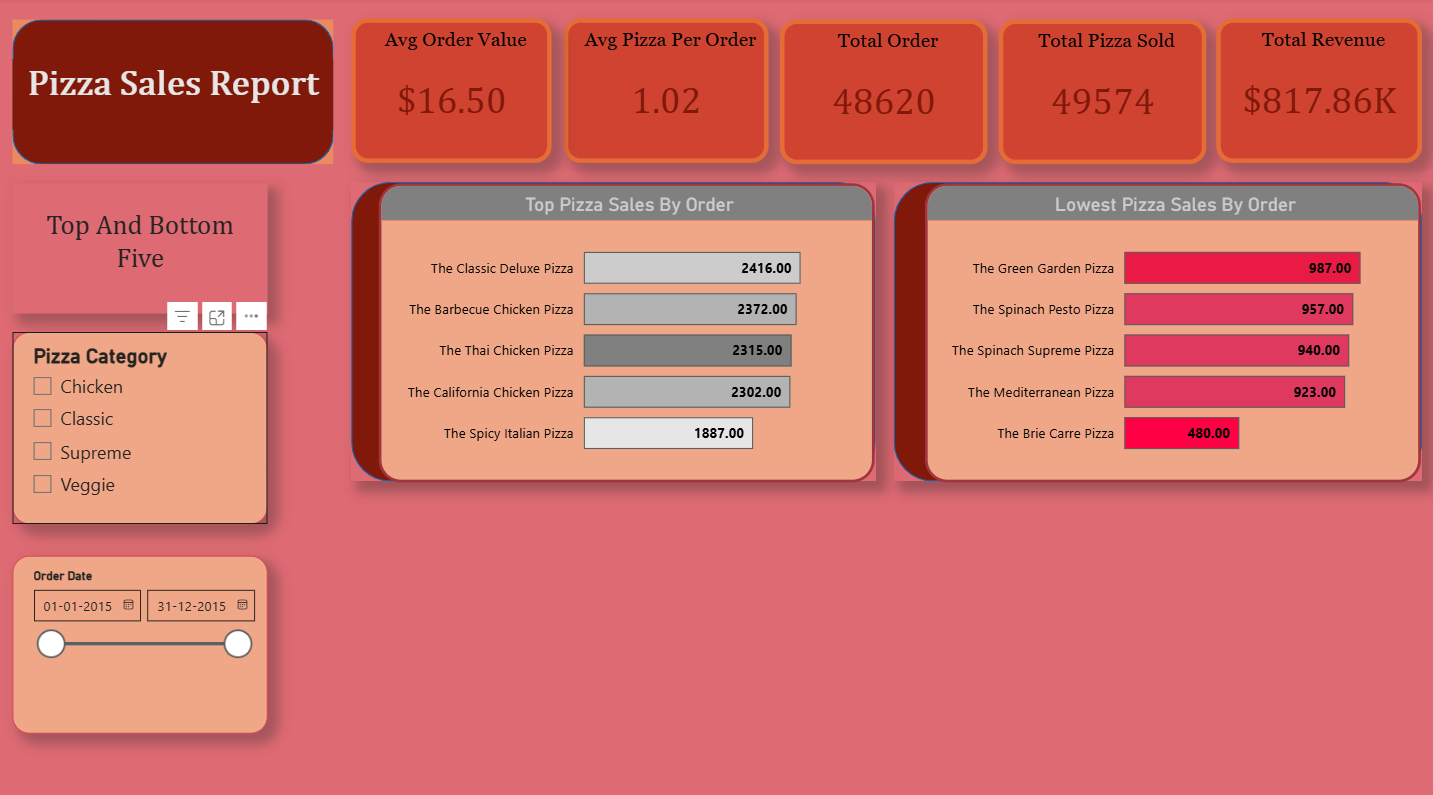

What the dashboard file says about the page in this screenshot:
{"tool":"powerbi","page":{"name":"Page 4","canvas":[1280,720],"ordinal":3},"visuals":[{"type":"card","title":"Avg Pizza Per Order","fields":{"Values":["public pizza_sales.average_pizza per order"]},"box":[501.9,19.3,182.2,129.1],"z":0},{"type":"card","title":"Avg Order Value","fields":{"Values":["public pizza_sales.Average order value"]},"box":[312.5,19.3,178.6,129.1],"z":1},{"type":"card","title":"Total Order","fields":{"Values":["public pizza_sales.Total_order"]},"box":[694.9,20.5,184.6,129.1],"z":2},{"type":"card","title":"Total Pizza Sold","fields":{"Values":["public pizza_sales.Total_pizza_sold"]},"box":[889.1,20.5,184.6,129.1],"z":3},{"type":"card","title":"Total Revenue","fields":{"Values":["public pizza_sales.total_revenue"]},"box":[1083.4,19.3,183.4,129.1],"z":4},{"type":"shape","box":[312.5,165.3,466.9,266.6],"z":5},{"type":"shape","box":[796.3,165.3,470.5,266.6],"z":6},{"type":"barChart","title":"Top Pizza Sales By Order","fields":{"Category":["public pizza_sales.pizza_name"],"Y":["Count(public pizza_sales.order_details_id)"]},"box":[337,165.6,441.7,266.3],"z":7},{"type":"barChart","title":"Lowest Pizza Sales By Order","fields":{"Category":["public pizza_sales.pizza_name"],"Y":["Count(public pizza_sales.order_details_id)"]},"box":[823.8,166.2,441.2,266.2],"z":8},{"type":"shape","title":"Pi","box":[10.9,20.5,285.9,129.1],"z":9},{"type":"textbox","box":[10.9,55.5,285.9,62.7],"z":10},{"type":"textbox","box":[11.2,166.2,227.5,116.2],"z":11},{"type":"slicer","title":"Pizza Category","fields":{"Values":["public pizza_sales.pizza_category"]},"box":[11.2,298.8,227.5,171.2],"z":12},{"type":"slicer","title":"Pizza Category","fields":{"Values":["public pizza_sales.order_date"]},"box":[11.2,497.5,227.5,158.8],"z":13}]}

Visuals, with their boxes in screenshot pixels (x1, y1, x2, y2), scaled from the page's 1280x720 canvas onto the 1433x795 screenshot:
"Avg Pizza Per Order" card: l=562, t=21, r=766, b=164
"Avg Order Value" card: l=350, t=21, r=550, b=164
"Total Order" card: l=778, t=23, r=985, b=165
"Total Pizza Sold" card: l=995, t=23, r=1202, b=165
"Total Revenue" card: l=1213, t=21, r=1418, b=164
shape: l=350, t=183, r=873, b=477
shape: l=891, t=183, r=1418, b=477
"Top Pizza Sales By Order" barChart: l=377, t=183, r=872, b=477
"Lowest Pizza Sales By Order" barChart: l=922, t=184, r=1416, b=477
"Pi" shape: l=12, t=23, r=332, b=165
textbox: l=12, t=61, r=332, b=131
textbox: l=13, t=184, r=267, b=312
"Pizza Category" slicer: l=13, t=330, r=267, b=519
"Pizza Category" slicer: l=13, t=549, r=267, b=725
